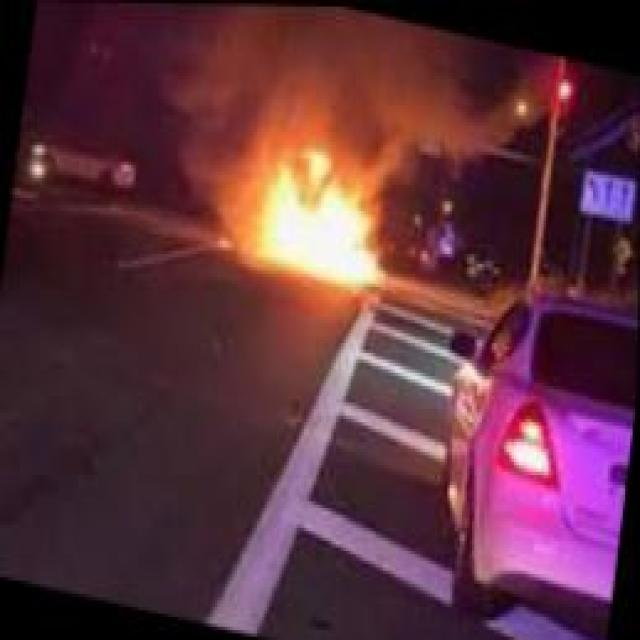Fire: (208, 109, 408, 310)
Smoke: (182, 3, 500, 162)
